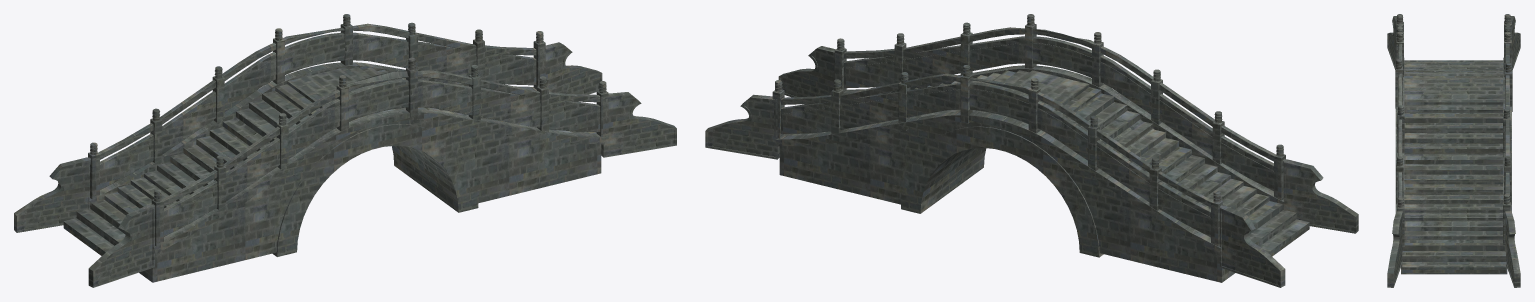
Rendered from Arch.glb.
The picture shows the model from 3 angles, left to right: view 1: azimuth 30°, elevation 25°; view 2: azimuth 150°, elevation 25°; view 3: azimuth 270°, elevation 25°; orthographic projection. The views are drawn at different scales.
Parts seen in each view (by area): view 1: Arch; view 2: Arch; view 3: Arch.
Part boxes in pixels (x1,y1,x2,y2): Arch: (14,14,676,287); Arch: (705,14,1358,287); Arch: (1387,14,1520,287).
Size of the model in its own units: 0.0395 by 0.0107 by 0.00926.
1 material, 1 textured.
